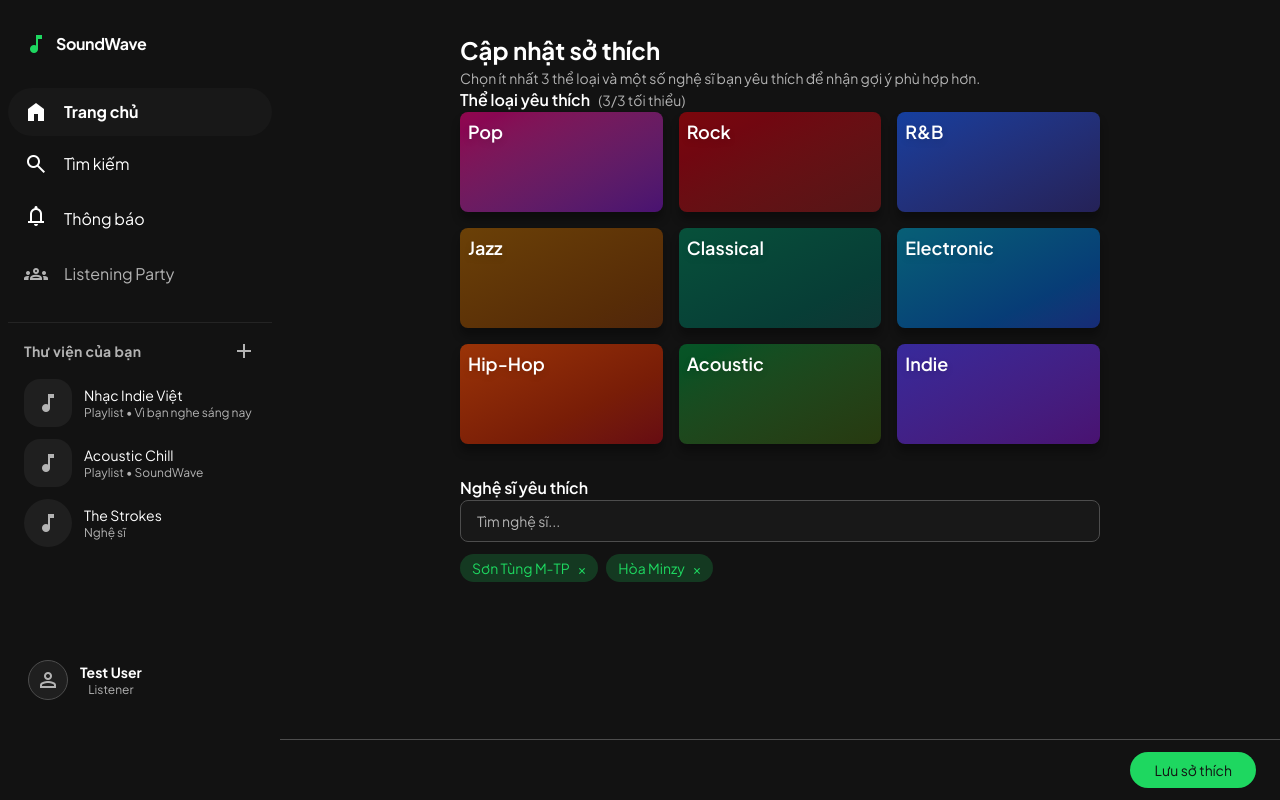
PreferencesPage › removed artist reappears in search results
Click the button with test id "remove-artist-Sơn Tùng M-TP".
click(582, 568)  # box [578,558,586,578]
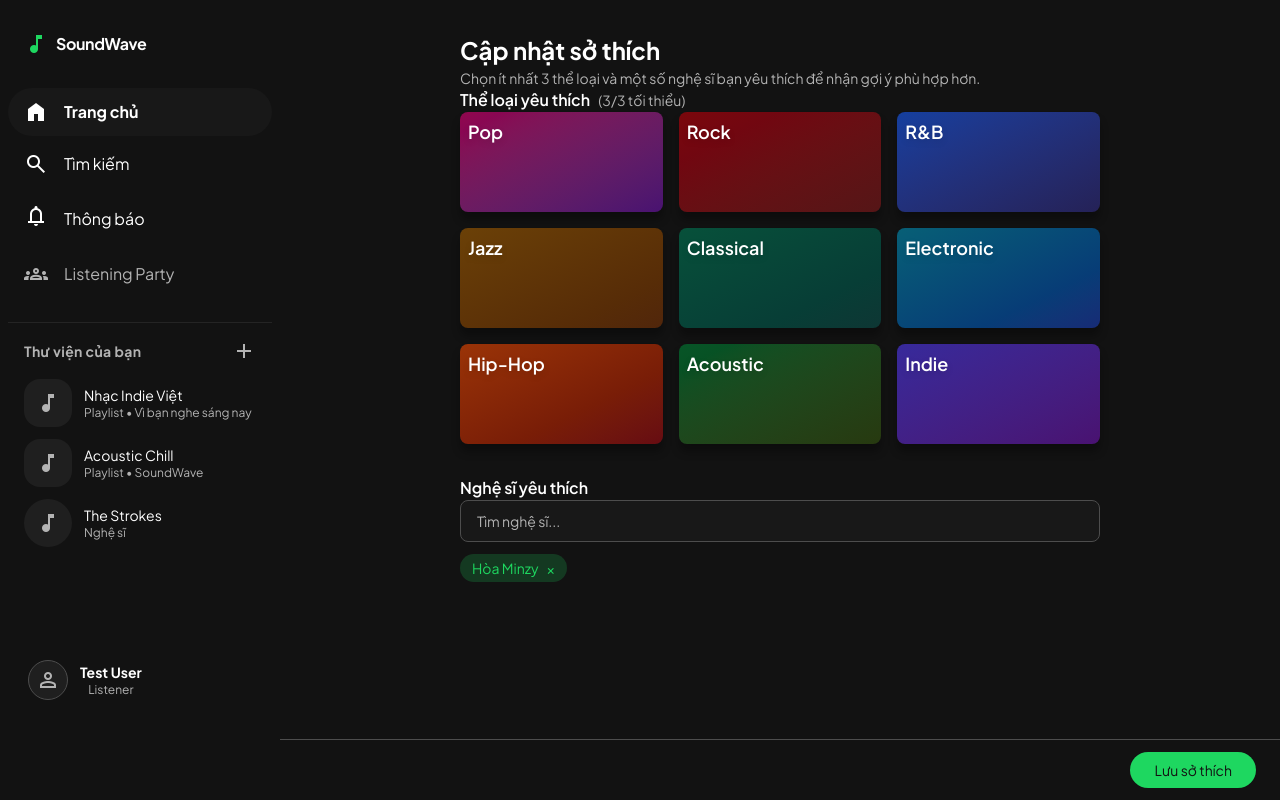
Type "Sơn" into the field with test id "artist-search-input".
click(780, 521); type("Sơn")  # box [460,500,1100,542]
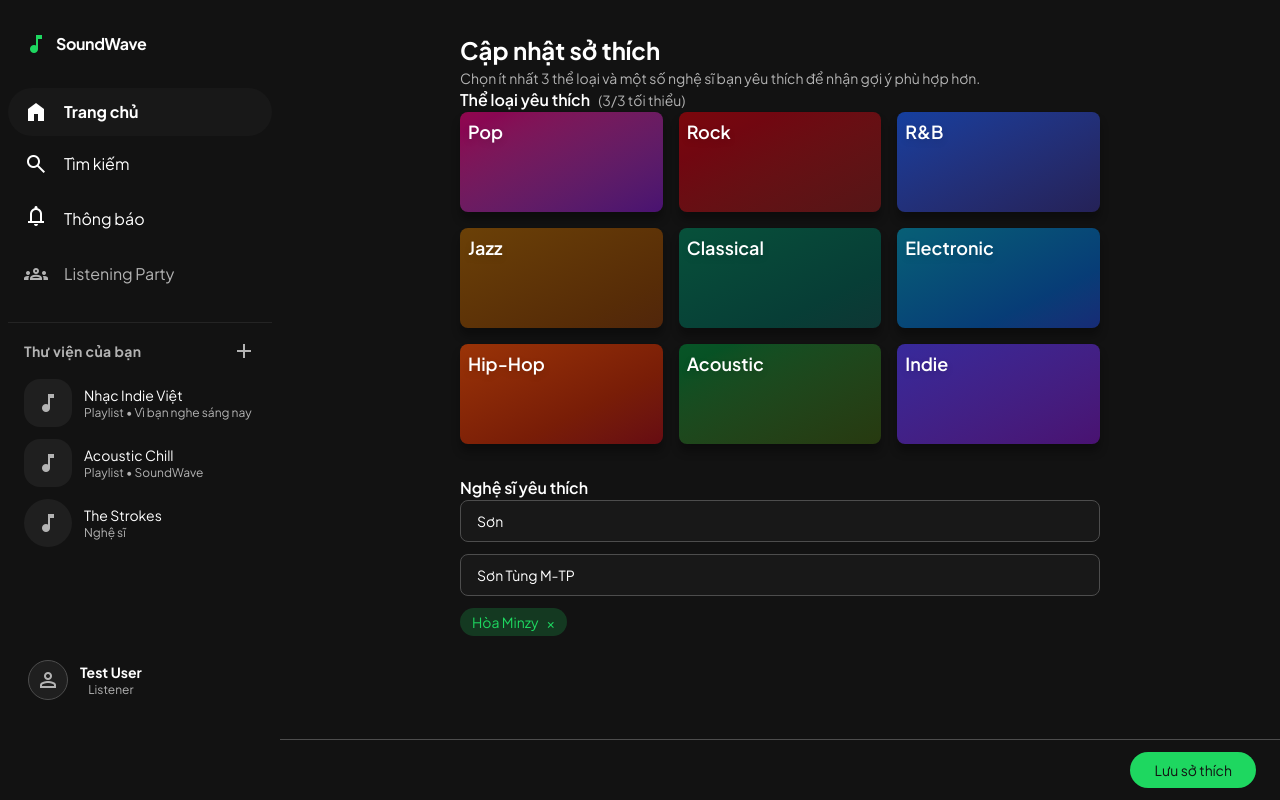
Expected: the button with test id "artist-result-Sơn Tùng M-TP" is shown, [461,555,1099,595]
